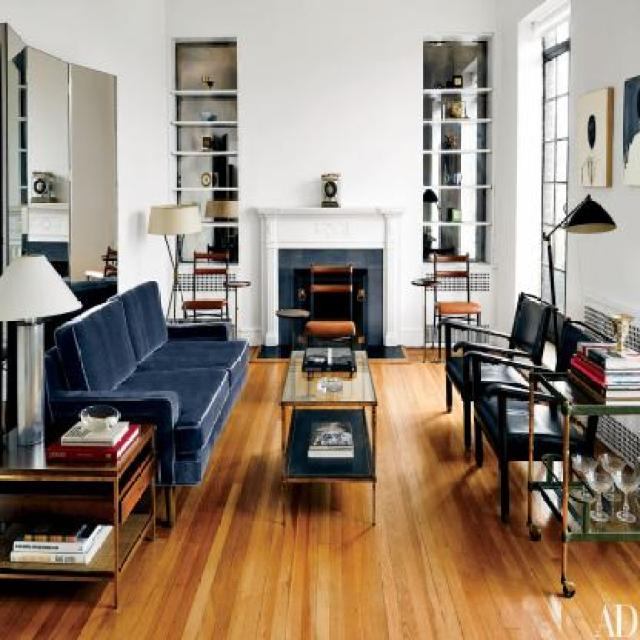floor: (0, 348, 640, 640)
